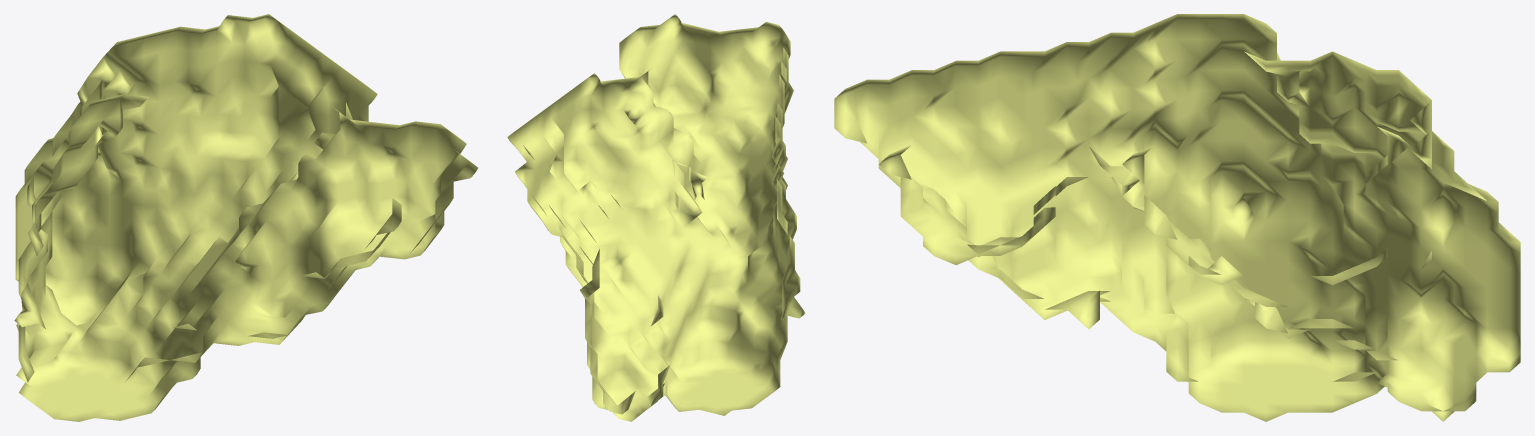
File: osteocyte_22.glb
The picture shows the model from 3 angles, left to right: view 1: azimuth 30°, elevation 25°; view 2: azimuth 150°, elevation 25°; view 3: azimuth 270°, elevation 25°; orthographic projection. The views are drawn at different scales.
Parts seen in each view (by area): view 1: osteocyte_22; view 2: osteocyte_22; view 3: osteocyte_22.
Boxes of the visible parts, x1=… form: osteocyte_22: x1=14, y1=14, x2=478, y2=421; osteocyte_22: x1=507, y1=14, x2=805, y2=421; osteocyte_22: x1=834, y1=14, x2=1520, y2=421.
Size of the model in its own units: 9.39 by 8.05 by 13.86.
